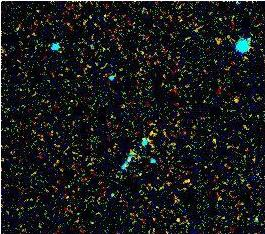star: (220, 82, 250, 112)
